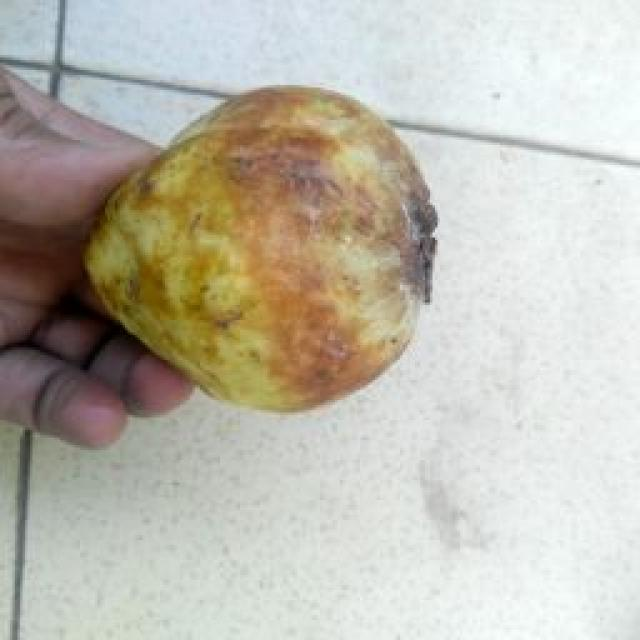Bad_Guava: (85, 86, 436, 409)
